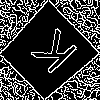K: (23, 26, 80, 83)
